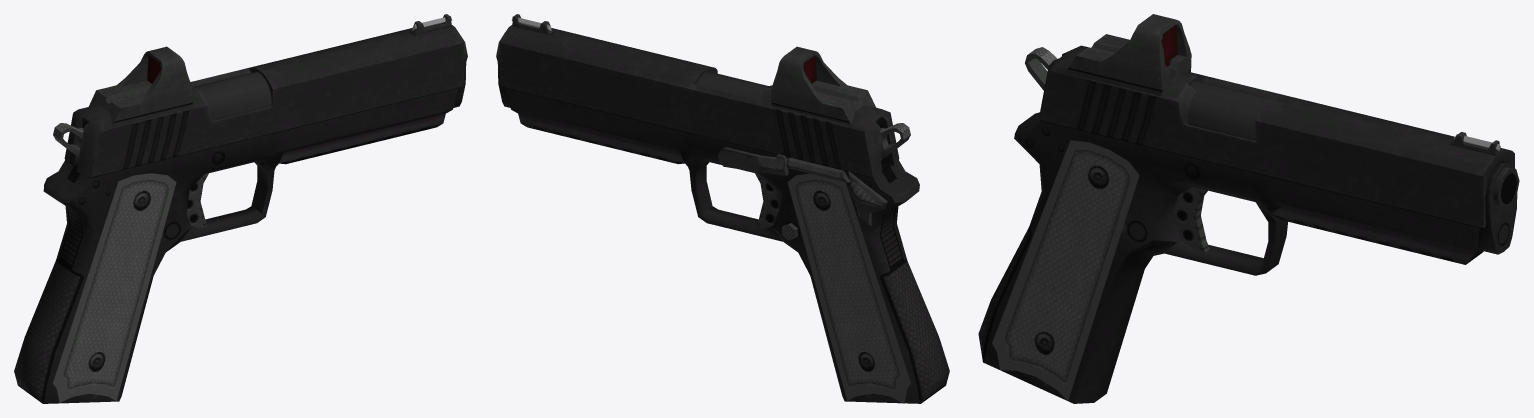
The model's file is heavypistol.glb.
The picture shows the model from 3 angles, left to right: view 1: azimuth 30°, elevation 25°; view 2: azimuth 150°, elevation 25°; view 3: azimuth 330°, elevation 25°; orthographic projection. The views are drawn at different scales.
Parts seen in each view (by area): view 1: Gun_Root; view 2: Gun_Root; view 3: Gun_Root.
Boxes of the visible parts, x1,y1,x2,y2 form: Gun_Root: [14, 14, 467, 403]; Gun_Root: [496, 14, 949, 403]; Gun_Root: [978, 14, 1519, 403].
Size of the model in its own units: 0.5505 by 0.3943 by 0.0757.
Materials: 2 (2 with a texture image).
